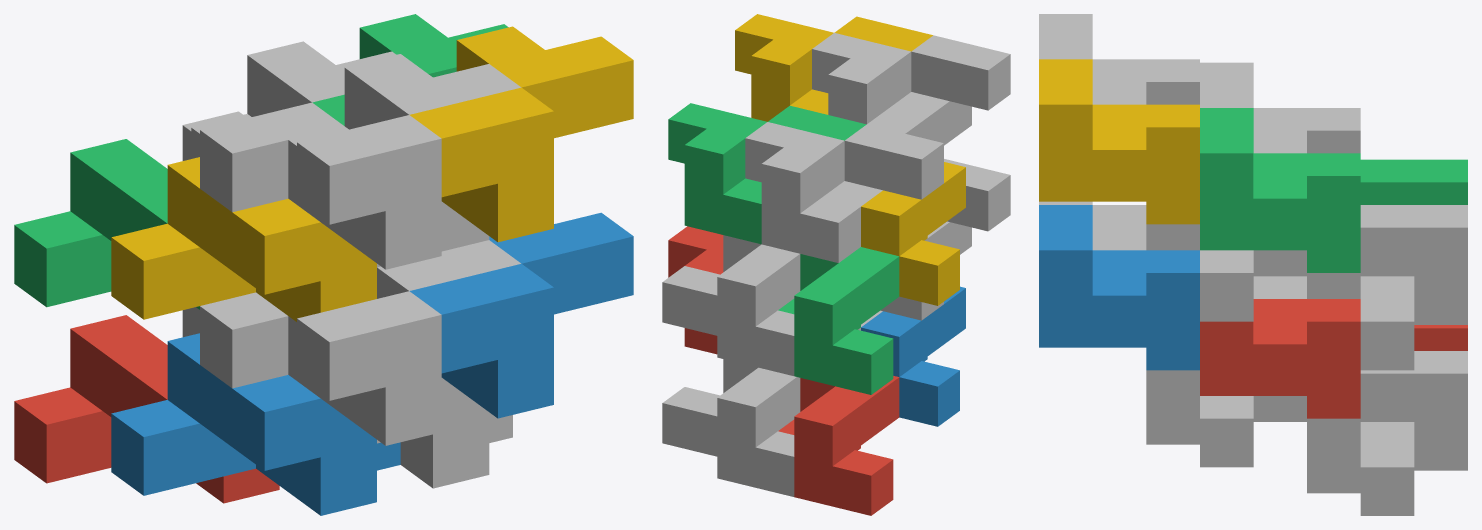
File: tiling.obj
The picture shows the model from 3 angles, left to right: view 1: azimuth 30°, elevation 25°; view 2: azimuth 150°, elevation 25°; view 3: azimuth 270°, elevation 25°; orthographic projection. The views are drawn at different scales.
Parts seen in each view (by area): view 1: copy_1_domain_2, copy_2_domain_8, copy_2_domain_4, copy_1_domain_4, copy_2_domain_6, copy_2_domain_2, copy_1_domain_1, copy_1_domain_3, copy_2_domain_3, copy_2_domain_1, copy_1_domain_6, copy_2_domain_7 (+1 smaller); view 2: copy_2_domain_3, copy_2_domain_4, copy_1_domain_7, copy_1_domain_3, copy_1_domain_5, copy_1_domain_1, copy_2_domain_7, copy_2_domain_8, copy_1_domain_4, copy_1_domain_2, copy_2_domain_2, copy_2_domain_5 (+1 smaller); view 3: copy_2_domain_6, copy_2_domain_8, copy_2_domain_7, copy_1_domain_5, copy_1_domain_7, copy_2_domain_5, copy_1_domain_6, copy_2_domain_3, copy_2_domain_4, copy_1_domain_8, copy_1_domain_3, copy_2_domain_2 (+2 smaller).
Part boxes in pixels (<box>): copy_1_domain_2: <box>111,333,400,515</box>; copy_2_domain_8: <box>410,26,633,242</box>; copy_2_domain_4: <box>288,54,521,269</box>; copy_1_domain_4: <box>111,157,376,321</box>; copy_2_domain_6: <box>409,212,633,418</box>; copy_2_domain_2: <box>288,240,520,445</box>; copy_1_domain_1: <box>14,315,279,503</box>; copy_1_domain_3: <box>14,139,199,309</box>; copy_2_domain_3: <box>191,41,396,212</box>; copy_2_domain_1: <box>191,292,288,388</box>; copy_1_domain_6: <box>377,378,512,488</box>; copy_2_domain_7: <box>312,14,508,125</box>; copy_2_domain_3: <box>745,122,943,262</box>; copy_2_domain_4: <box>812,33,1010,145</box>; copy_1_domain_7: <box>662,235,800,375</box>; copy_1_domain_3: <box>778,247,899,394</box>; copy_1_domain_5: <box>662,359,800,496</box>; copy_1_domain_1: <box>778,376,899,515</box>; copy_2_domain_7: <box>668,103,866,244</box>; copy_2_domain_8: <box>735,14,932,121</box>; copy_1_domain_4: <box>861,162,965,305</box>; copy_1_domain_2: <box>861,286,965,426</box>; copy_2_domain_2: <box>924,159,1010,254</box>; copy_2_domain_5: <box>668,226,723,354</box>; copy_2_domain_6: <box>1039,205,1199,370</box>; copy_2_domain_8: <box>1039,59,1199,224</box>; copy_2_domain_7: <box>1200,108,1360,272</box>; copy_1_domain_5: <box>1307,351,1467,515</box>; copy_1_domain_7: <box>1307,205,1467,370</box>; copy_2_domain_5: <box>1200,299,1360,418</box>; copy_1_domain_6: <box>1146,370,1306,467</box>; copy_2_domain_3: <box>1200,62,1360,153</box>; copy_2_domain_4: <box>1039,14,1199,104</box>; copy_1_domain_8: <box>1146,224,1306,321</box>; copy_1_domain_3: <box>1360,159,1467,204</box>; copy_2_domain_2: <box>1039,201,1146,250</box>.
Bounding box in the file's own units: 7 × 8 × 8.
